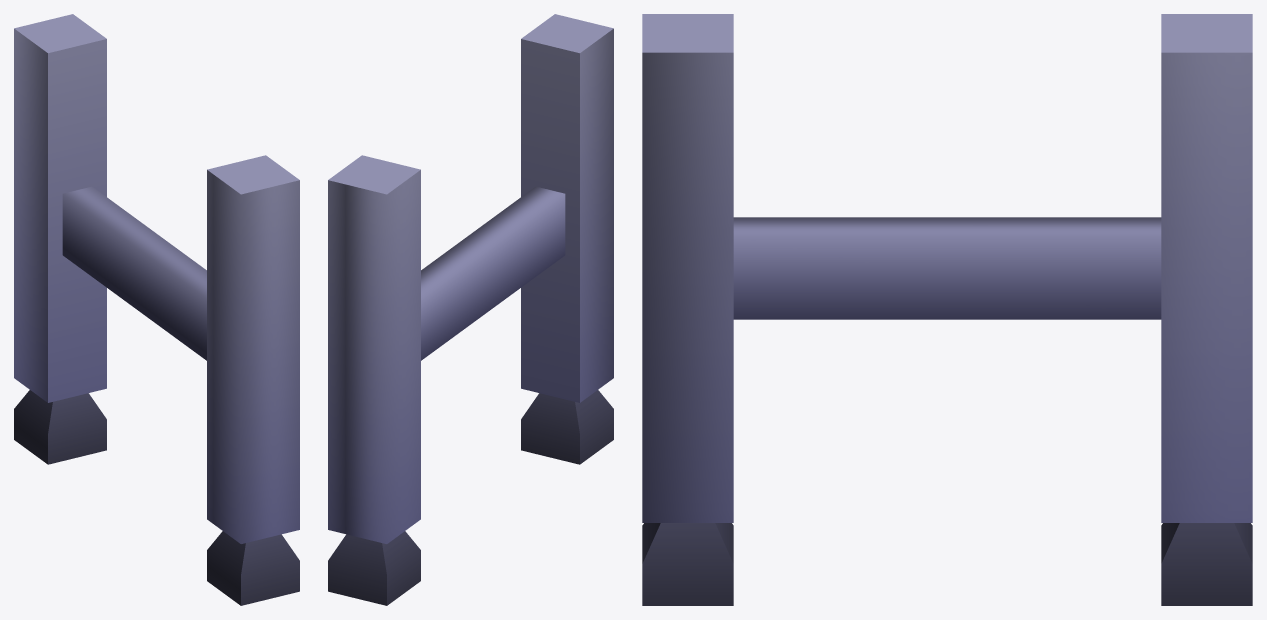
File: structure-medium.glb
The picture shows the model from 3 angles, left to right: view 1: azimuth 30°, elevation 25°; view 2: azimuth 150°, elevation 25°; view 3: azimuth 270°, elevation 25°; orthographic projection. The views are drawn at different scales.
Visible parts, largest first — view 1: structure-medium; view 2: structure-medium; view 3: structure-medium.
Part boxes in pixels (left/top/right/bottom): structure-medium: left=14, top=14, right=299, bottom=605; structure-medium: left=328, top=14, right=613, bottom=605; structure-medium: left=642, top=14, right=1252, bottom=605.
Size of the model in its own units: 0.15 by 1 by 1.
